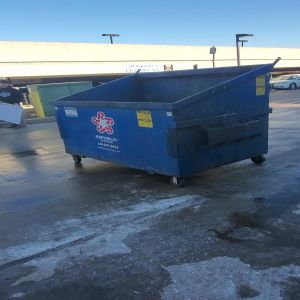Dumpster: (50, 66, 279, 189)
Person: (1, 75, 23, 105)
